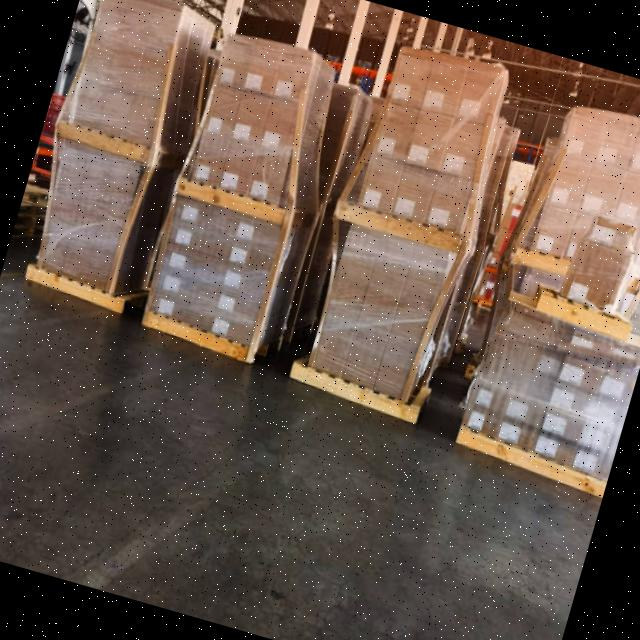Wooden-Pallets: (449, 421, 601, 506), (284, 355, 421, 435), (136, 303, 254, 372), (16, 256, 123, 324)
